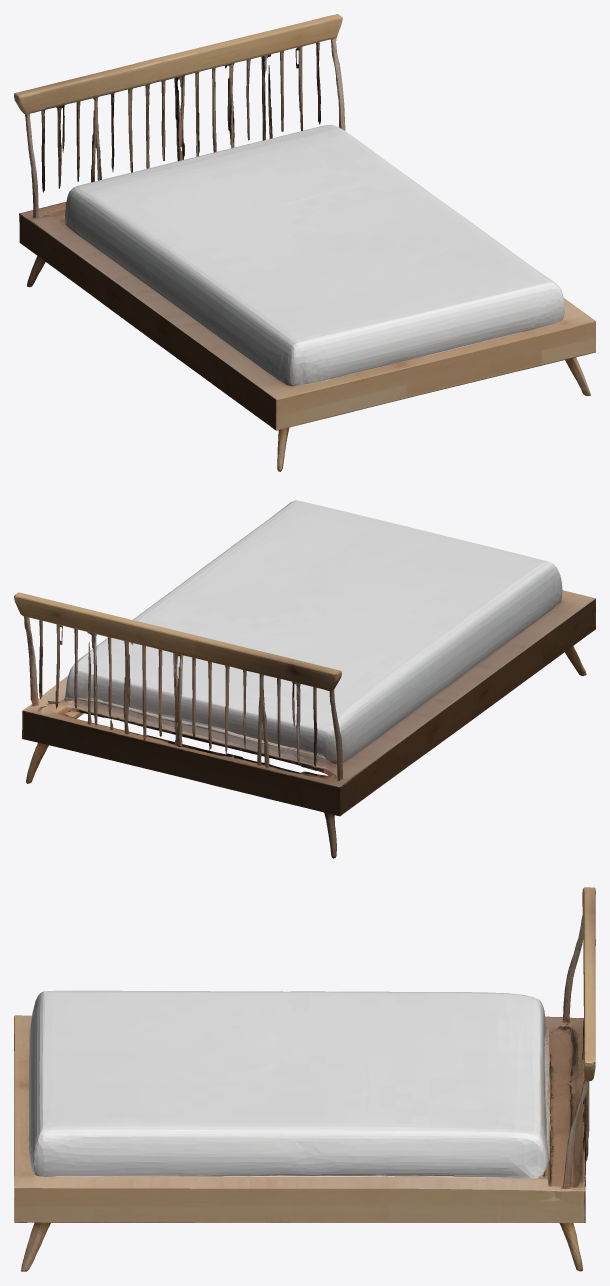
File: b12ffccb-3593-41ad-933b-3b5fabf573ba.glb
3 renders of one model, top to bottom at view 1: azimuth 30°, elevation 25°; view 2: azimuth 150°, elevation 25°; view 3: azimuth 270°, elevation 25°, orthographic. The views are drawn at different scales.
Parts seen in each view (by area): view 1: world; view 2: world; view 3: world.
Part boxes in pixels (bbox=[...]): world: bbox=[14, 14, 595, 471]; world: bbox=[14, 500, 595, 858]; world: bbox=[14, 887, 595, 1271].
Bounding box in the file's own units: 0.7154 × 0.4048 × 1.
Materials: 1 (1 with a texture image).
